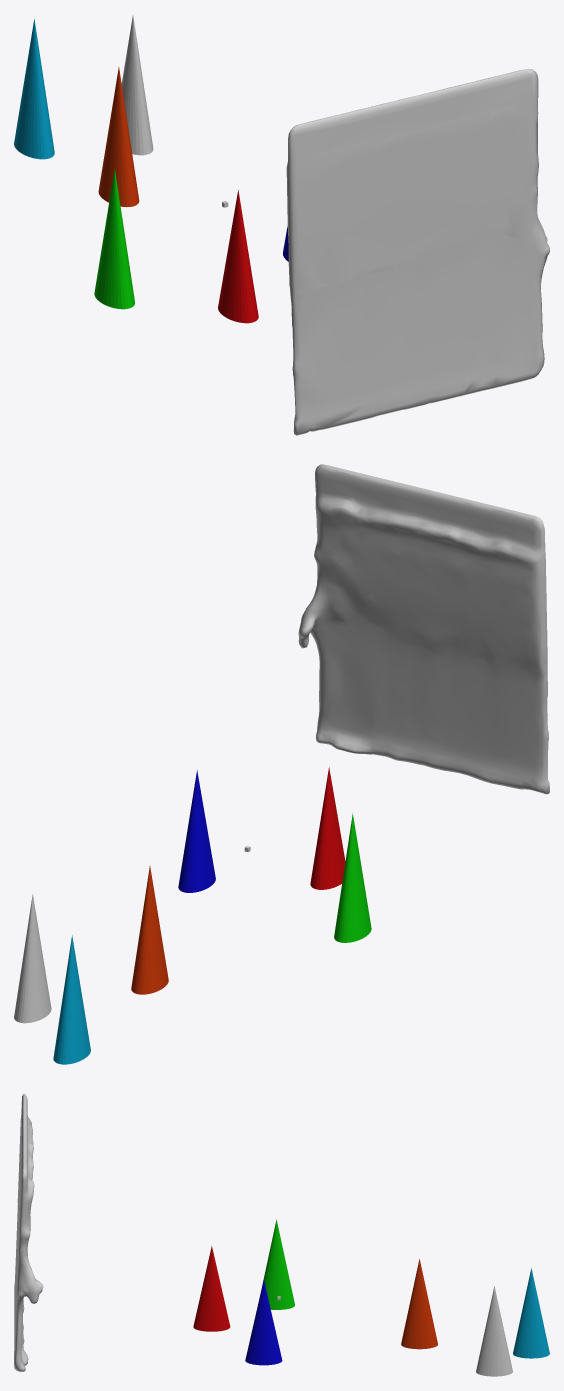
The picture shows the model from 3 angles, top to bottom: view 1: azimuth 30°, elevation 25°; view 2: azimuth 150°, elevation 25°; view 3: azimuth 270°, elevation 25°; orthographic projection. The views are drawn at different scales.
Parts seen in each view (by area): view 1: Liquid_Domain, 円錐.003, 円錐.005, 円錐.001, 円錐.004, 円錐; view 2: Liquid_Domain, 円錐.004, 円錐, 円錐.005, 円錐.003, 円錐.002, 円錐.001; view 3: Liquid_Domain, 円錐, 円錐.005, 円錐.004, 円錐.001, 円錐.002, 円錐.003.
Part boxes in pixels (left/top/right/bottom): Liquid_Domain: left=286, top=69, right=549, bottom=435; 円錐.003: left=94, top=168, right=134, bottom=309; 円錐.005: left=14, top=19, right=54, bottom=159; 円錐.001: left=218, top=190, right=258, bottom=323; 円錐.004: left=98, top=67, right=139, bottom=207; 円錐: left=121, top=15, right=153, bottom=155; Liquid_Domain: left=298, top=464, right=549, bottom=794; 円錐.004: left=131, top=866, right=168, bottom=994; 円錐: left=14, top=894, right=51, bottom=1023; 円錐.005: left=53, top=935, right=90, bottom=1064; 円錐.003: left=334, top=813, right=371, bottom=942; 円錐.002: left=178, top=770, right=215, bottom=892; 円錐.001: left=310, top=767, right=345, bottom=889; Liquid_Domain: left=14, top=1094, right=43, bottom=1371; 円錐: left=476, top=1286, right=512, bottom=1376; 円錐.005: left=513, top=1268, right=549, bottom=1358; 円錐.004: left=401, top=1259, right=437, bottom=1349; 円錐.001: left=193, top=1246, right=230, bottom=1331; 円錐.002: left=245, top=1279, right=282, bottom=1365; 円錐.003: left=262, top=1219, right=294, bottom=1309.
Size of the model in its own units: 128 by 158 by 347.
